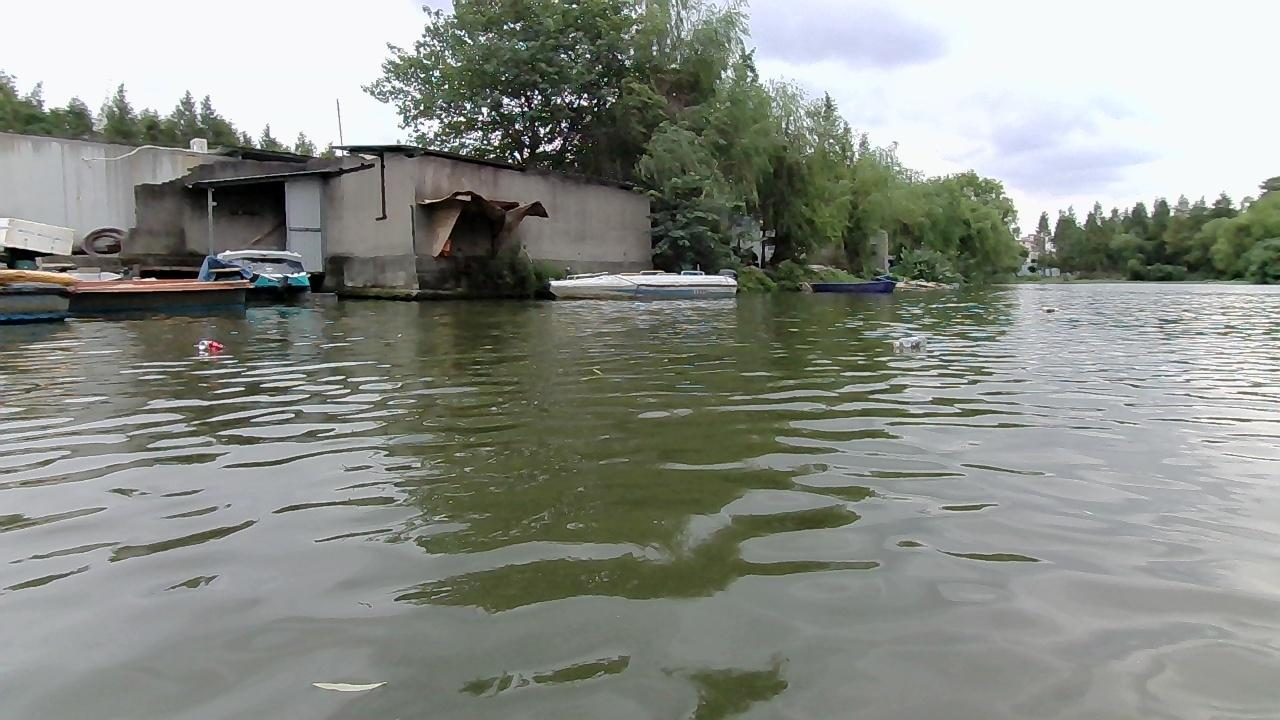bottle: (893, 333, 927, 357), (197, 339, 228, 356), (1035, 304, 1060, 315)
